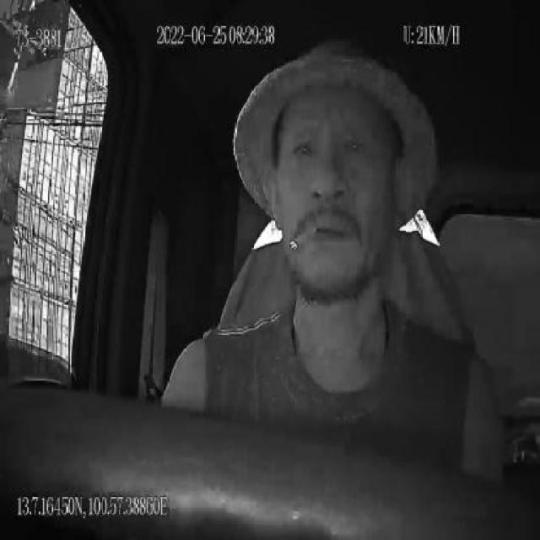smoking: (289, 221, 320, 250)
